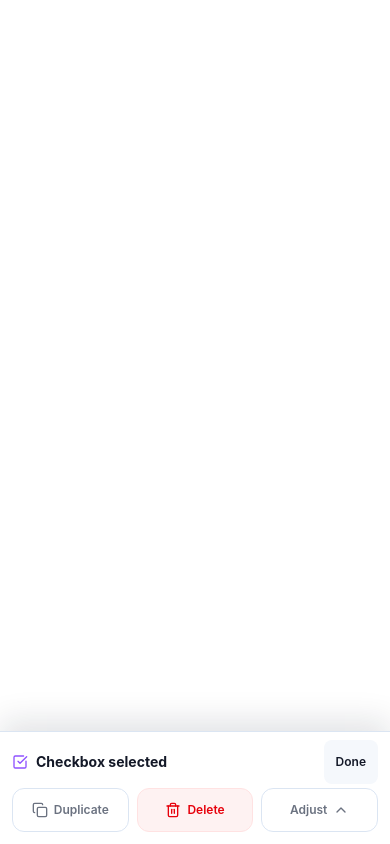
Test: ContextPanel checkbox controls › shows color controls when a checkbox field is selected
Click the button with test id "mobile-field-adjust-toggle" at (320, 810), box 261,788 -> 378,832
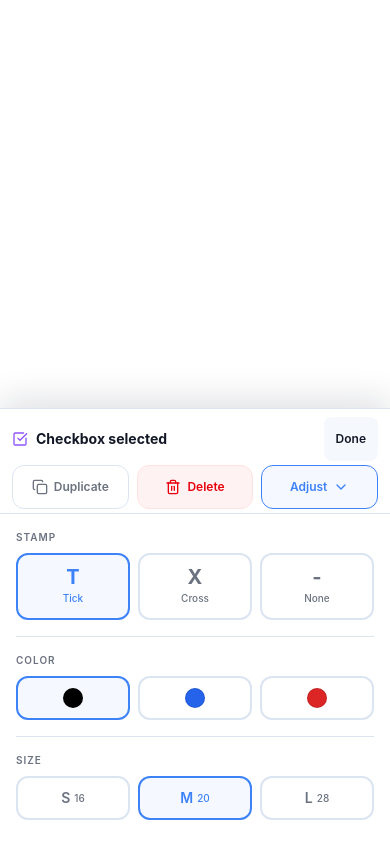
Expected: the text "Color" is shown 2 times
Expected: the number of buttons named "Red checkbox color" is 2
